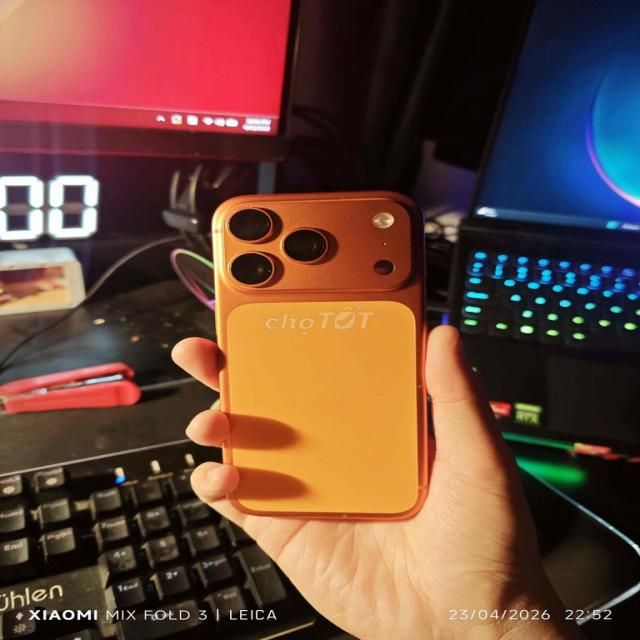gen_17: (196, 173, 449, 533)
